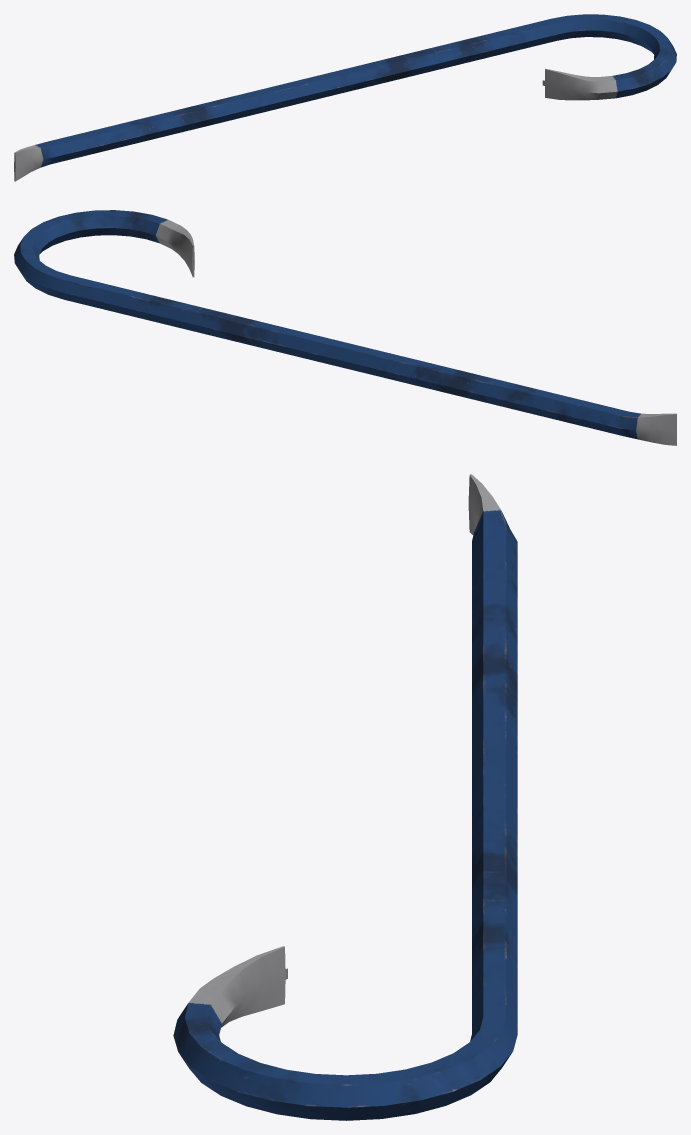
File: pe_de_cabra.glb
The picture shows the model from 3 angles, top to bottom: view 1: azimuth 30°, elevation 25°; view 2: azimuth 150°, elevation 25°; view 3: azimuth 270°, elevation 25°; orthographic projection. The views are drawn at different scales.
Parts seen in each view (by area): view 1: barra; view 2: barra; view 3: barra.
Boxes of the visible parts, x1,y1,x2,y2 form: barra: [14, 14, 676, 181]; barra: [14, 210, 676, 445]; barra: [173, 474, 517, 1120].
Bounding box in the file's own units: 0.5949 × 0.0263 × 0.143.
1 material, 1 textured.
